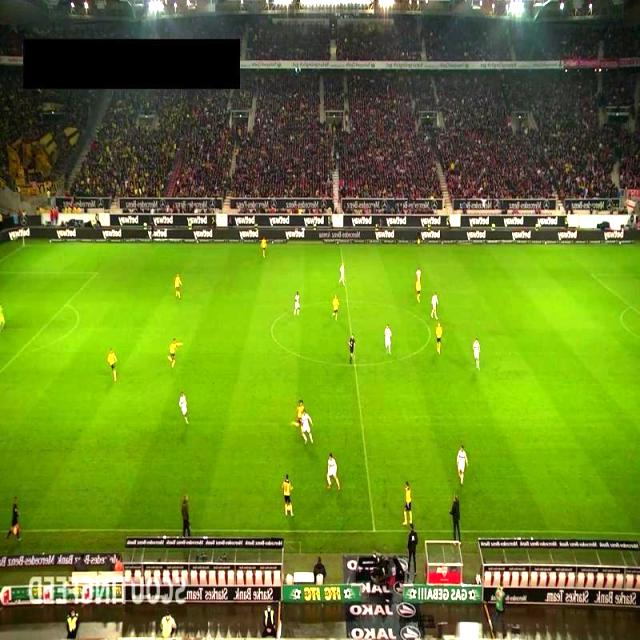bigarea_top_inner: (90, 268, 105, 280), (586, 268, 597, 279)
bottom_arc_area_intersection: (10, 350, 22, 361)
corner: (18, 240, 30, 250)
halfcircle_bottom: (349, 360, 360, 370)
halfcircle_top: (342, 296, 352, 306)
midline_bottom_intersection: (367, 523, 381, 539)
midline_top_intersection: (334, 242, 346, 252)
top_arc_area_intersection: (58, 299, 75, 311), (626, 302, 636, 313)
